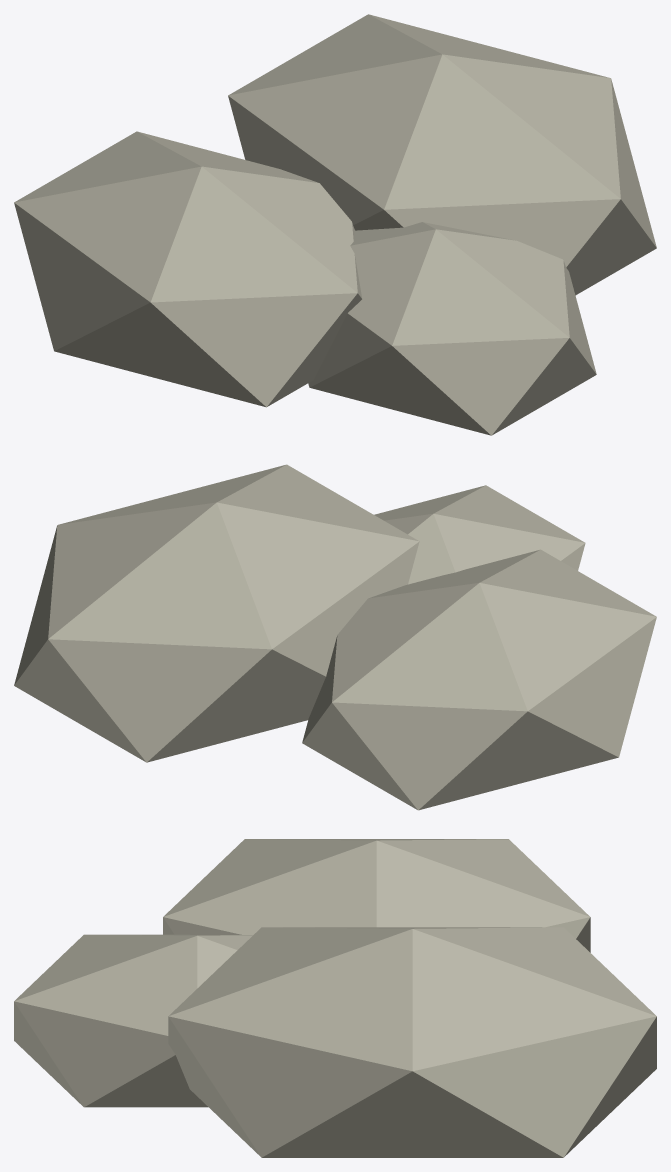
File: ore_cooldown.fbx
3 views of the same model, one above another, from view 1: azimuth 30°, elevation 25°; view 2: azimuth 150°, elevation 25°; view 3: azimuth 270°, elevation 25° (orthographic). The views are drawn at different scales.
Parts seen in each view (by area): view 1: ore_cooldown; view 2: ore_cooldown; view 3: ore_cooldown.
Part boxes in pixels (left/top/right/bottom): ore_cooldown: left=14, top=14, right=656, bottom=435; ore_cooldown: left=14, top=464, right=656, bottom=810; ore_cooldown: left=14, top=839, right=656, bottom=1157.
Bounding box in the file's own units: 1.5 × 0.6 × 1.5.
1 material, 1 textured.
